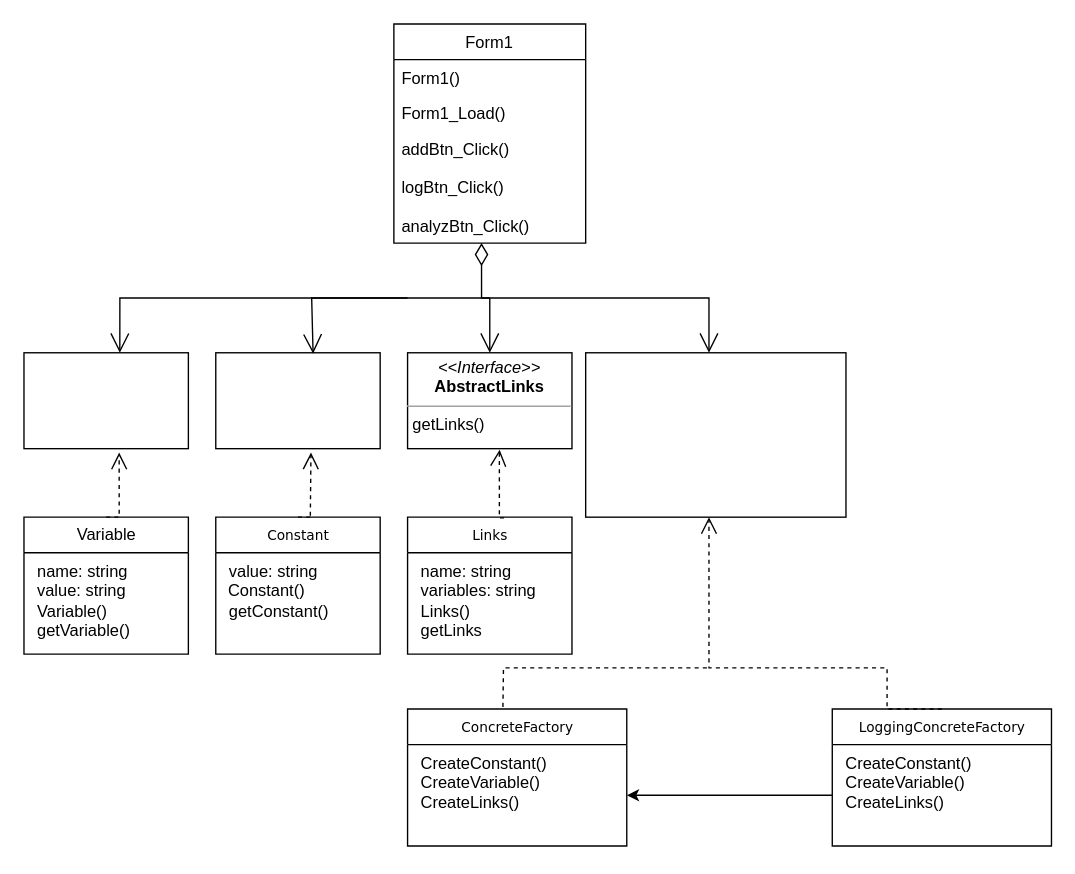
The diagram is 1075 pixels wide and 874 high, and some of its shapes have lost their labels. Each missing label, with the centre of its shape:
"<<Interface>> AbstractConstant getConstant()" goes at [297,400].
"<<Interface>> AbstractFactory CreateConstant() CreateVariable() CreateLinks()" goes at [715,434].
"<<Interface>> AbstractVariable getVariable()" goes at [105,400].
